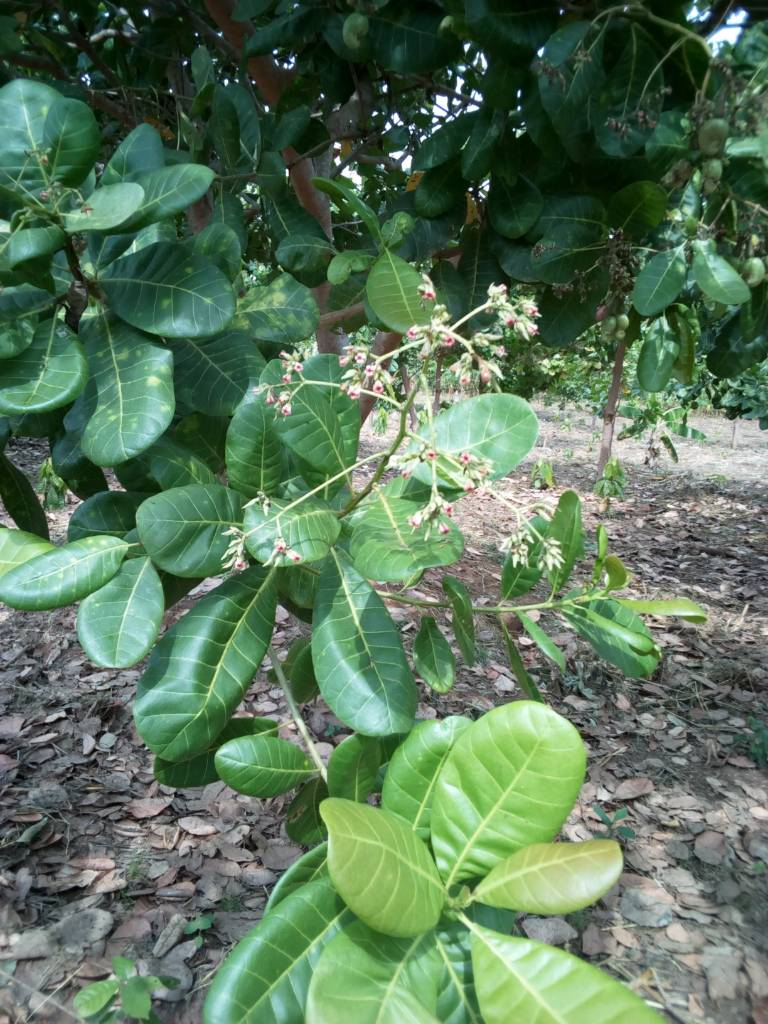Alternariose: (100, 236, 238, 339), (86, 333, 172, 460), (4, 533, 130, 608)
